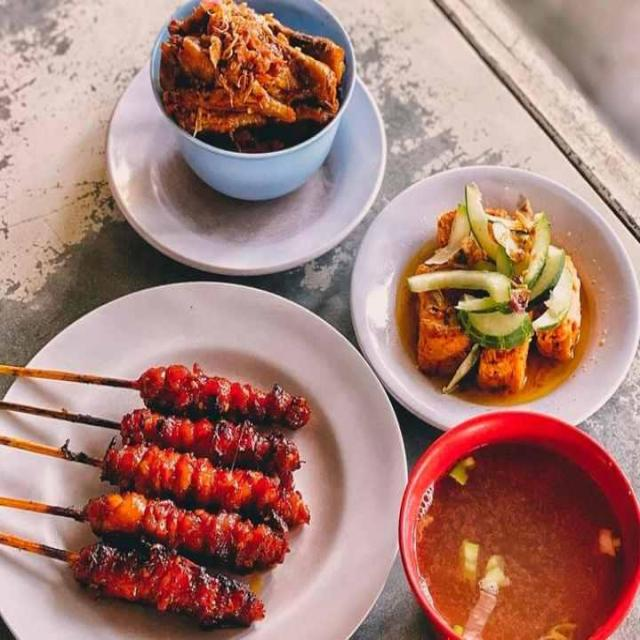Sate: (10, 338, 336, 613)
